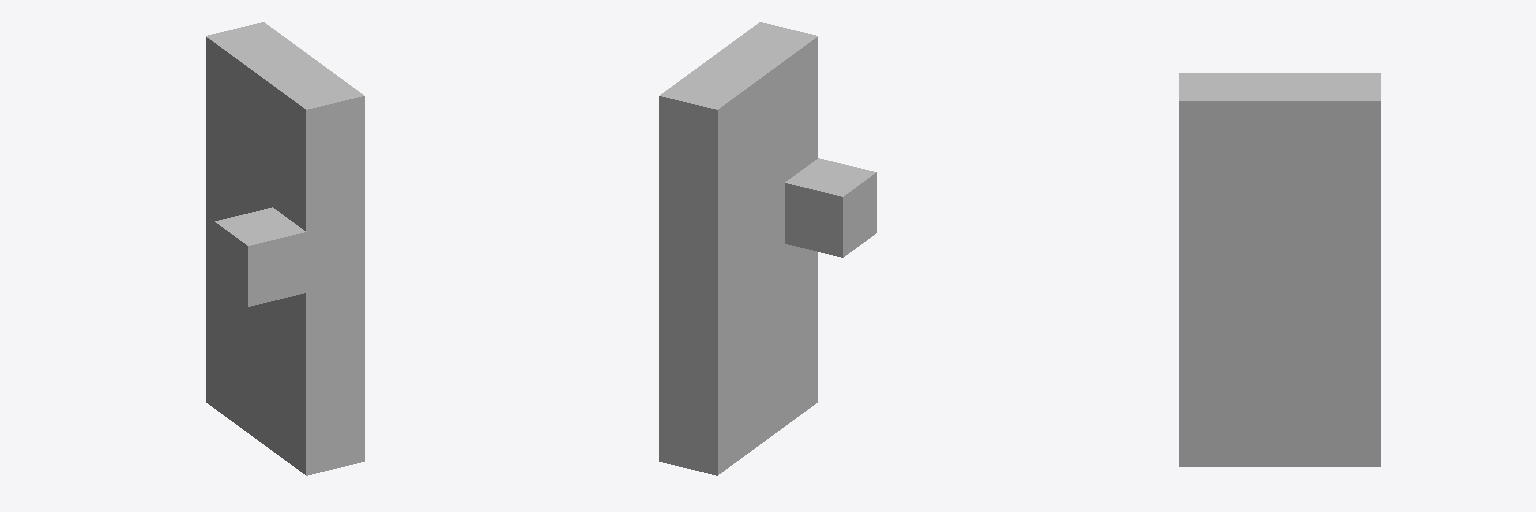
The model's file is kitchen_stand door.obj.
The picture shows the model from 3 angles: view 1: azimuth 30°, elevation 25°; view 2: azimuth 150°, elevation 25°; view 3: azimuth 270°, elevation 25°; orthographic projection.
Visible parts, largest first — view 1: kitchen_stand door; view 2: kitchen_stand door; view 3: kitchen_stand door.
Part boxes in pixels (left/top/right/bottom): kitchen_stand door: left=206, top=22, right=364, bottom=475; kitchen_stand door: left=659, top=22, right=876, bottom=475; kitchen_stand door: left=1179, top=73, right=1380, bottom=466.
Bounding box in the file's own units: 2 × 6 × 3.